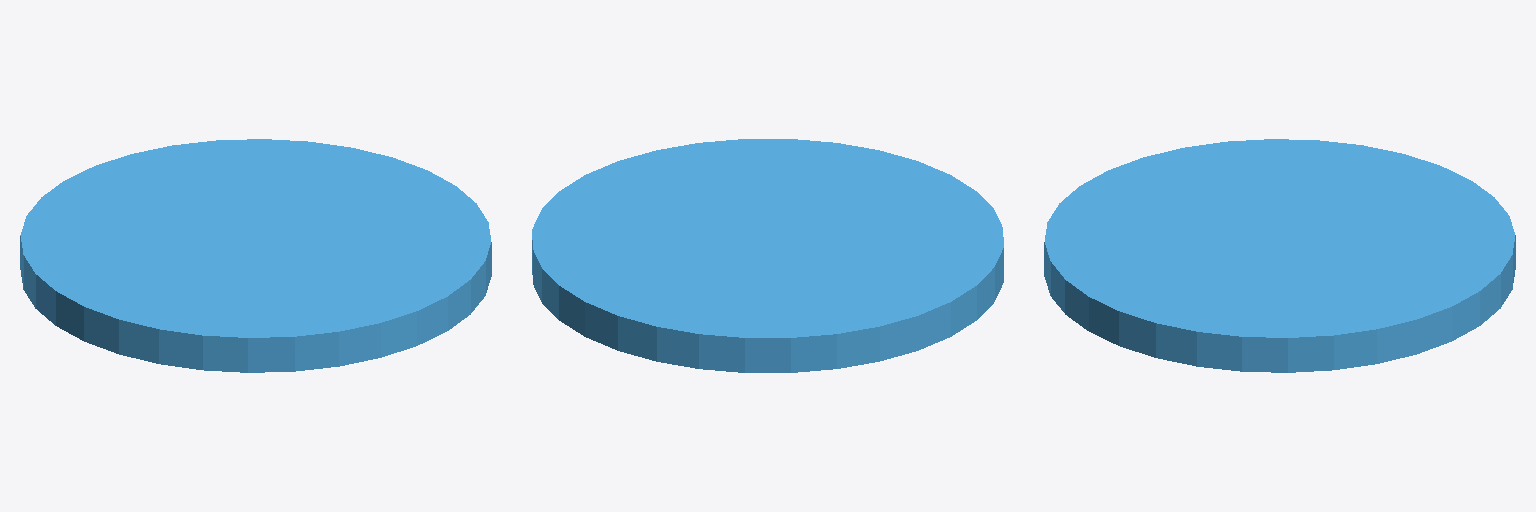
robot.urdf — Interference:
<?xml version="1.0"?>
<robot name="Interference">
  <link name="baseLink">
    <inertial>
      <origin xyz="0.0 0.0 0.0" rpy="0.0 0.0 0.0"/>
      <inertia ixx="0.0" ixy="0.0" ixz="0.0" iyy="0.0" iyz="0.0" izz="0.0"/>
      <mass value="0"/>
    </inertial>
    <visual>
      <origin xyz="0.0 0.0 0.0" rpy="0.0 0.0 0.8188548403645939"/>
      <geometry>
        <cylinder radius="0.06123022857664272" length="0.01"/>
      </geometry>
      <material name="color">
        <color rgba="0.3984305194642248 0.7586702126513171 0.9763800801594428 1.0"/>
      </material>
    </visual>
  </link>
</robot>

--- What the picture shows (computed from the rendered views, not written in the file) ---
The picture shows the robot from 3 angles, left to right: view 1: azimuth 30°, elevation 25°; view 2: azimuth 150°, elevation 25°; view 3: azimuth 270°, elevation 25°; orthographic projection.
Model Interference with 1 links and 0 joints (none), rooted at baseLink, posed every joint at zero.
Visible links, largest first — view 1: baseLink; view 2: baseLink; view 3: baseLink.
Boxes of the visible links, x1=… form: baseLink: x1=20, y1=139, x2=491, y2=372; baseLink: x1=532, y1=139, x2=1003, y2=372; baseLink: x1=1044, y1=139, x2=1515, y2=372.
Size in the robot's own frame: 0.1224 by 0.1224 by 0.01 metres.
Geometry: primitives only (box / cylinder / sphere), no mesh files.